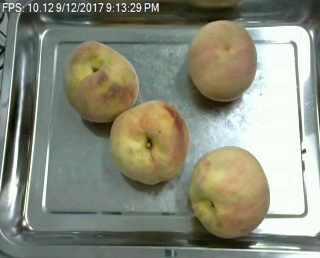Peach: (189, 145, 270, 238), (109, 99, 188, 185), (63, 39, 138, 123), (188, 19, 257, 102)
